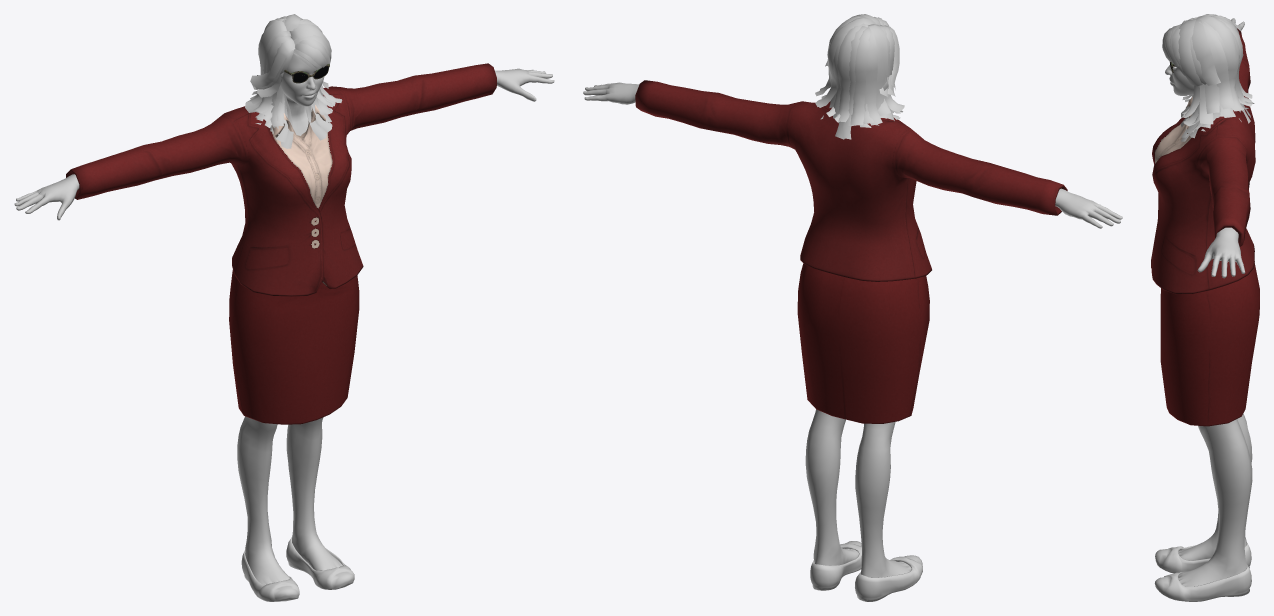
File: girl3skirt.obj
3 renders of one model, left to right at view 1: azimuth 30°, elevation 25°; view 2: azimuth 150°, elevation 25°; view 3: azimuth 270°, elevation 25°, orthographic.
Parts seen in each view (by area): view 1: Tops, Bottoms, Body, Hair, Shoes; view 2: Tops, Bottoms, Body, Hair, Shoes; view 3: Tops, Bottoms, Body, Hair, Shoes.
Part boxes in pixels (x1,y1,x2,y2): Tops: [66, 63, 496, 296]; Bottoms: [229, 270, 359, 424]; Body: [14, 53, 554, 584]; Hair: [245, 14, 342, 148]; Shoes: [241, 536, 354, 601]; Tops: [635, 80, 1067, 281]; Bottoms: [797, 263, 929, 423]; Body: [583, 82, 1122, 577]; Hair: [815, 14, 904, 139]; Shoes: [810, 541, 922, 601]; Tops: [1151, 28, 1255, 294]; Bottoms: [1160, 263, 1259, 426]; Body: [1165, 17, 1252, 586]; Hair: [1162, 14, 1254, 141]; Shoes: [1154, 543, 1251, 601].
Bounding box in the file's own units: 179 × 180 × 31.46.
